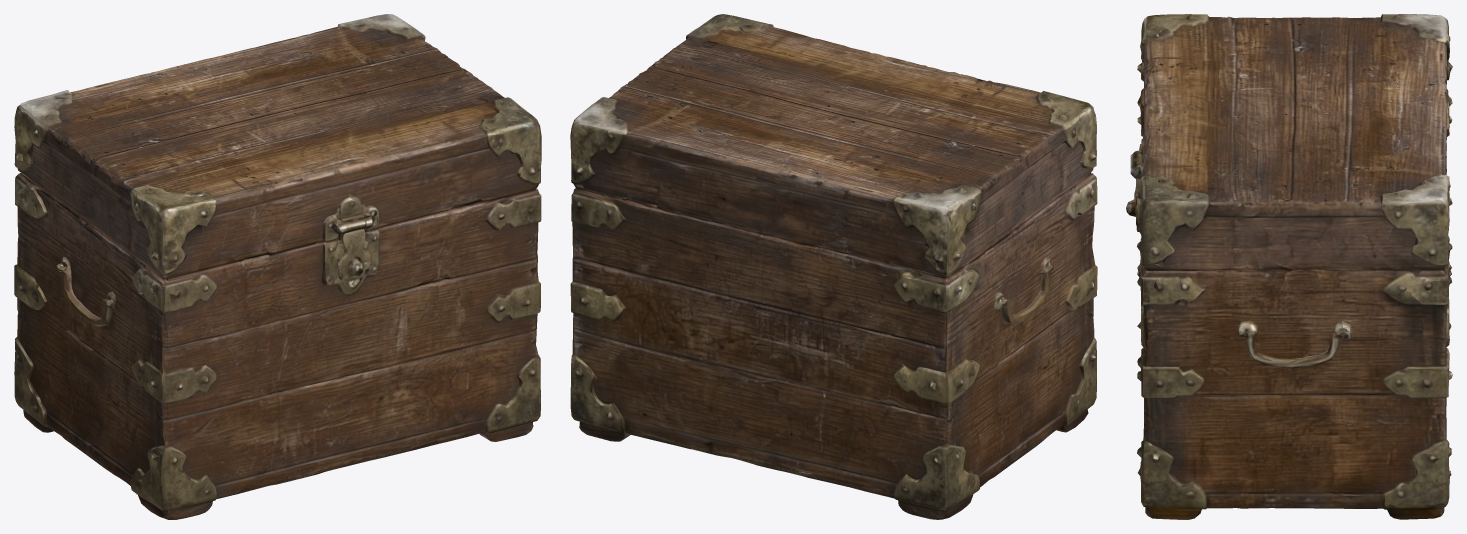
Rendered from model_glb.glb.
The picture shows the model from 3 angles, left to right: view 1: azimuth 30°, elevation 25°; view 2: azimuth 150°, elevation 25°; view 3: azimuth 270°, elevation 25°; orthographic projection. The views are drawn at different scales.
Parts seen in each view (by area): view 1: geometry_0; view 2: geometry_0; view 3: geometry_0.
Boxes of the visible parts, x1=… form: geometry_0: x1=14, y1=14, x2=541, y2=519; geometry_0: x1=570, y1=14, x2=1097, y2=519; geometry_0: x1=1126, y1=14, x2=1452, y2=519.
Size of the model in its own units: 0.6 by 0.4639 by 0.4234.
Materials: 1 (1 with a texture image).
